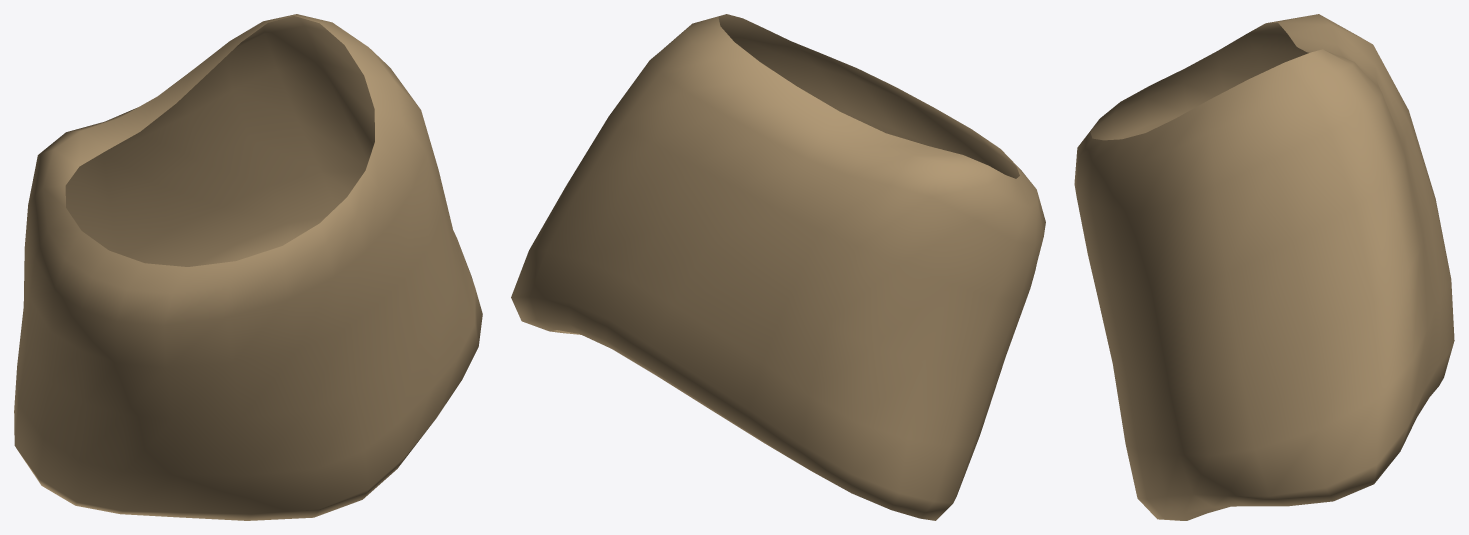
3 renders of one model, left to right at view 1: azimuth 30°, elevation 25°; view 2: azimuth 150°, elevation 25°; view 3: azimuth 270°, elevation 25°, orthographic. The views are drawn at different scales.
Visible parts, largest first — view 1: 左侧拇趾趾间关节囊; view 2: 左侧拇趾趾间关节囊; view 3: 左侧拇趾趾间关节囊.
Part boxes in pixels (bbox=[...]): 左侧拇趾趾间关节囊: bbox=[14, 14, 482, 520]; 左侧拇趾趾间关节囊: bbox=[511, 14, 1045, 520]; 左侧拇趾趾间关节囊: bbox=[1074, 14, 1454, 520].
Bounding box in the file's own units: 0.0311 × 0.0285 × 0.0204.
